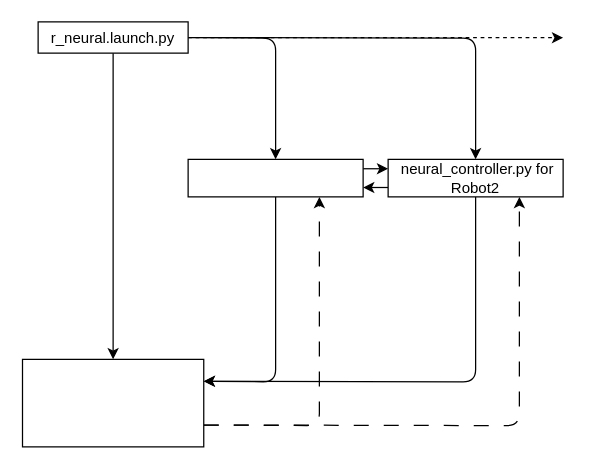
This 595x469 diagram has some shape labels left out. The centre of each missing label's shape, as x and y in pixels:
"Gazebo Simulation" belongs at pixel 112 402.
"neural_controller.py for Robot1" belongs at pixel 275 177.
